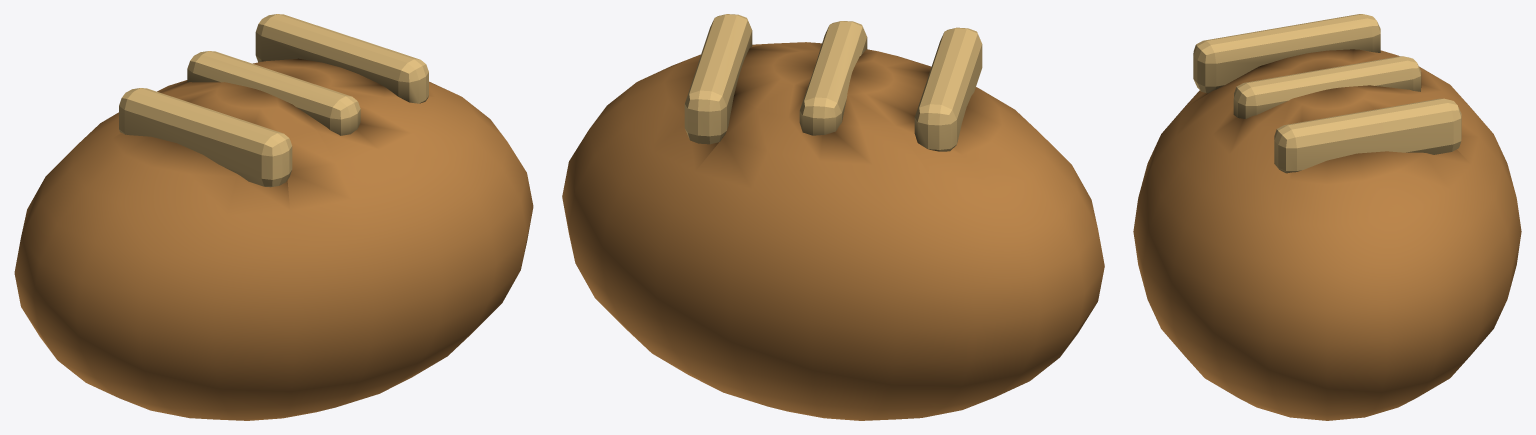
Rendered from bread.glb.
3 views of the same model, side by side, from view 1: azimuth 30°, elevation 25°; view 2: azimuth 150°, elevation 25°; view 3: azimuth 270°, elevation 25° (orthographic). The views are drawn at different scales.
Parts seen in each view (by area): view 1: bread; view 2: bread; view 3: bread.
Part boxes in pixels (x1,y1,x2,y2): bread: (14, 14, 533, 420); bread: (562, 14, 1104, 420); bread: (1133, 14, 1521, 420).
Bounding box in the file's own units: 0.3 × 0.191 × 0.216.
